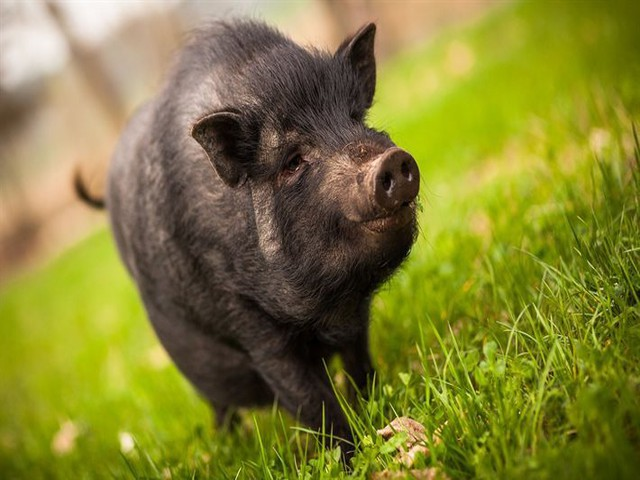Pig: (91, 8, 434, 445)
